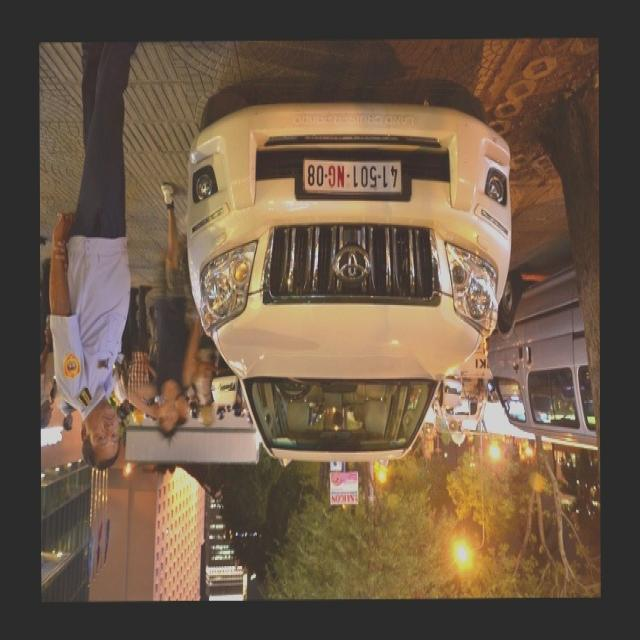bien_ngoai_giao: (300, 157, 406, 200)
